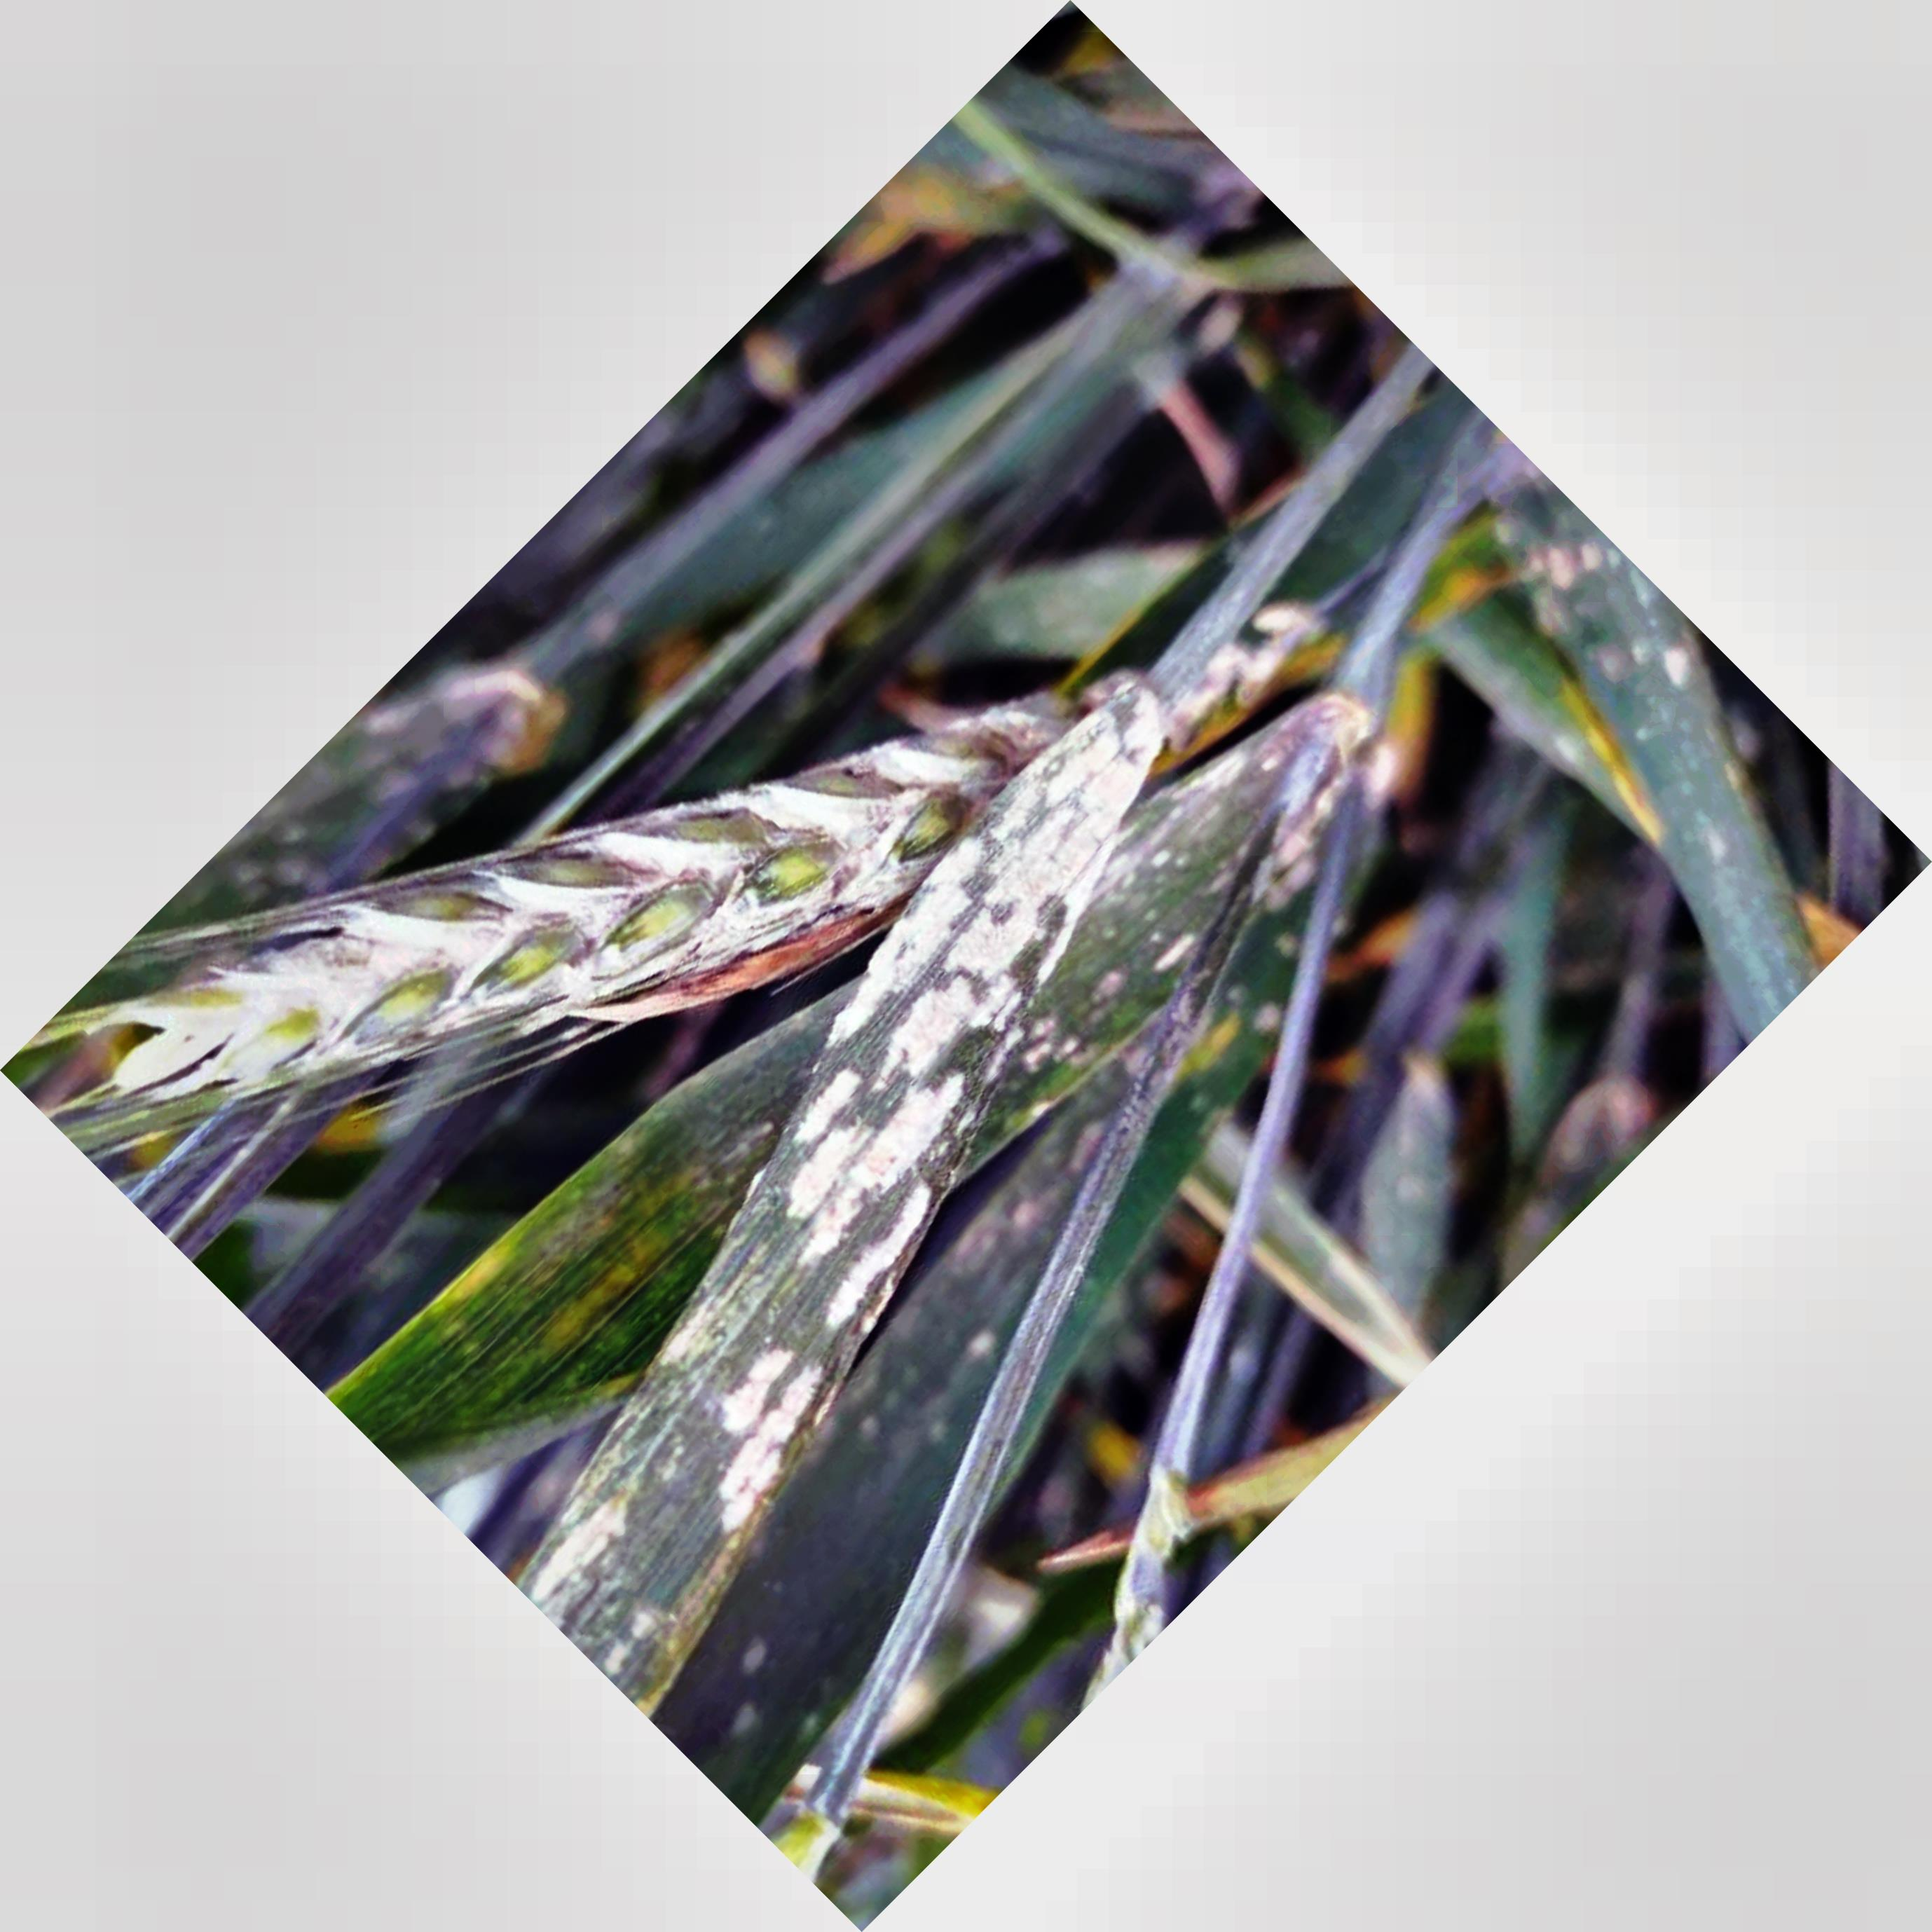Powdery Mildew: (729, 750, 1169, 1520)
